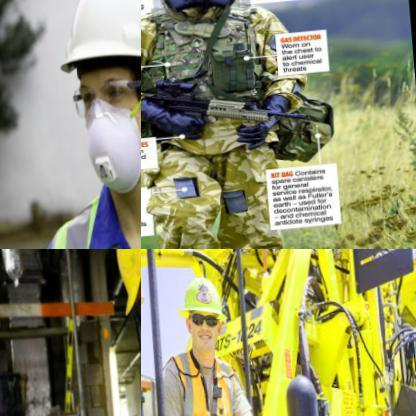vest: (141, 0, 270, 129), (36, 170, 140, 248), (168, 346, 240, 415)
